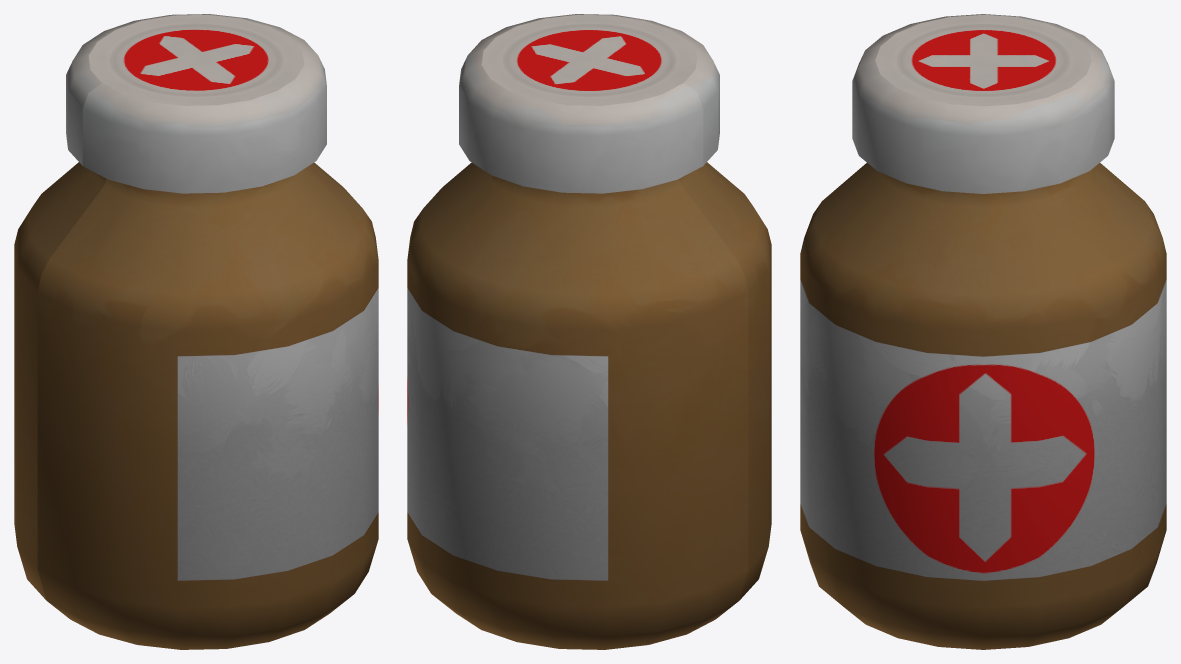
Rendered from Antibiotics.fbx.
3 renders of one model, left to right at view 1: azimuth 30°, elevation 25°; view 2: azimuth 150°, elevation 25°; view 3: azimuth 270°, elevation 25°, orthographic.
Parts seen in each view (by area): view 1: Antibiotics; view 2: Antibiotics; view 3: Antibiotics.
Boxes of the visible parts, left/top/right/bottom form: Antibiotics: left=14, top=14, right=378, bottom=649; Antibiotics: left=407, top=14, right=771, bottom=649; Antibiotics: left=800, top=14, right=1166, bottom=649.
Size of the model in its own units: 0.1504 by 0.2434 by 0.1504.
1 material, 1 textured.
